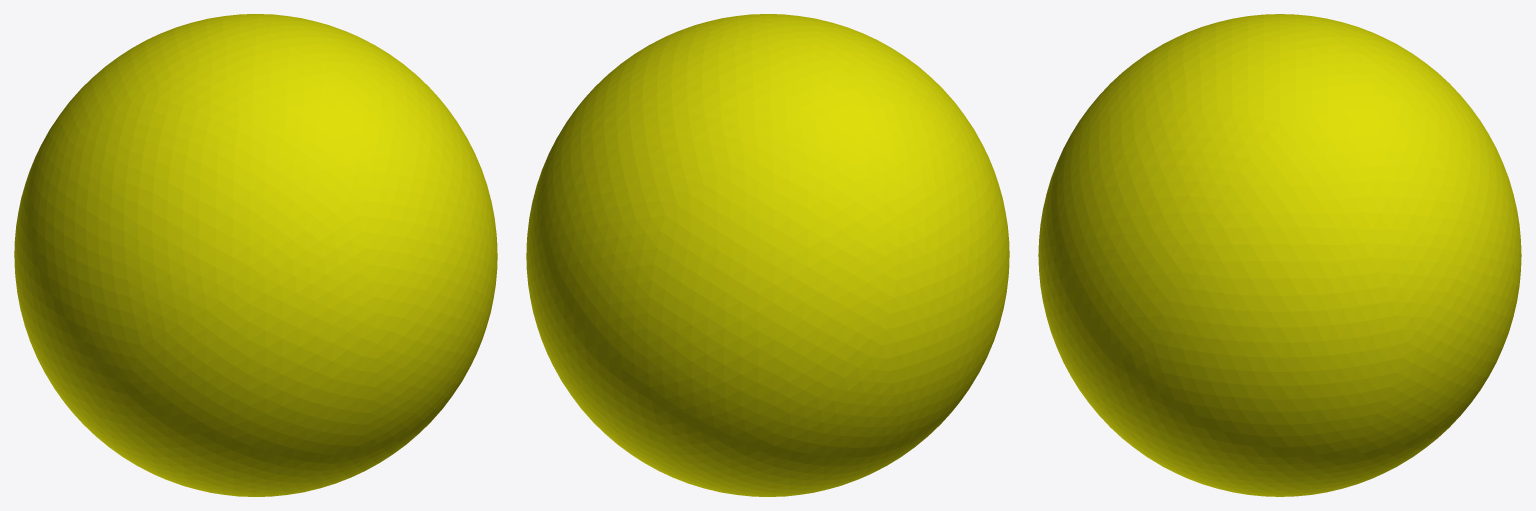
File: yellow_globe.glb
The picture shows the model from 3 angles, left to right: view 1: azimuth 30°, elevation 25°; view 2: azimuth 150°, elevation 25°; view 3: azimuth 270°, elevation 25°; orthographic projection.
Visible parts, largest first — view 1: world; view 2: world; view 3: world.
Part boxes in pixels (<box>): world: <box>14,14,497,496</box>; world: <box>526,14,1009,496</box>; world: <box>1038,14,1521,496</box>.
Bounding box in the file's own units: 2 × 2 × 2.
